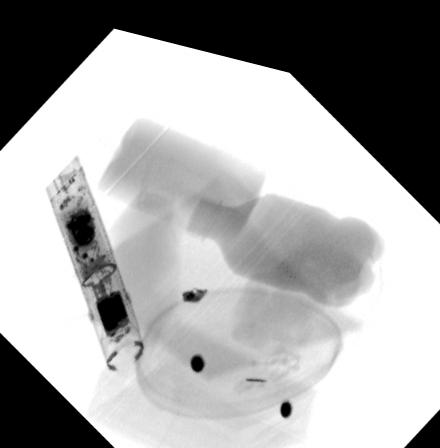Baton: (42, 147, 145, 367)
